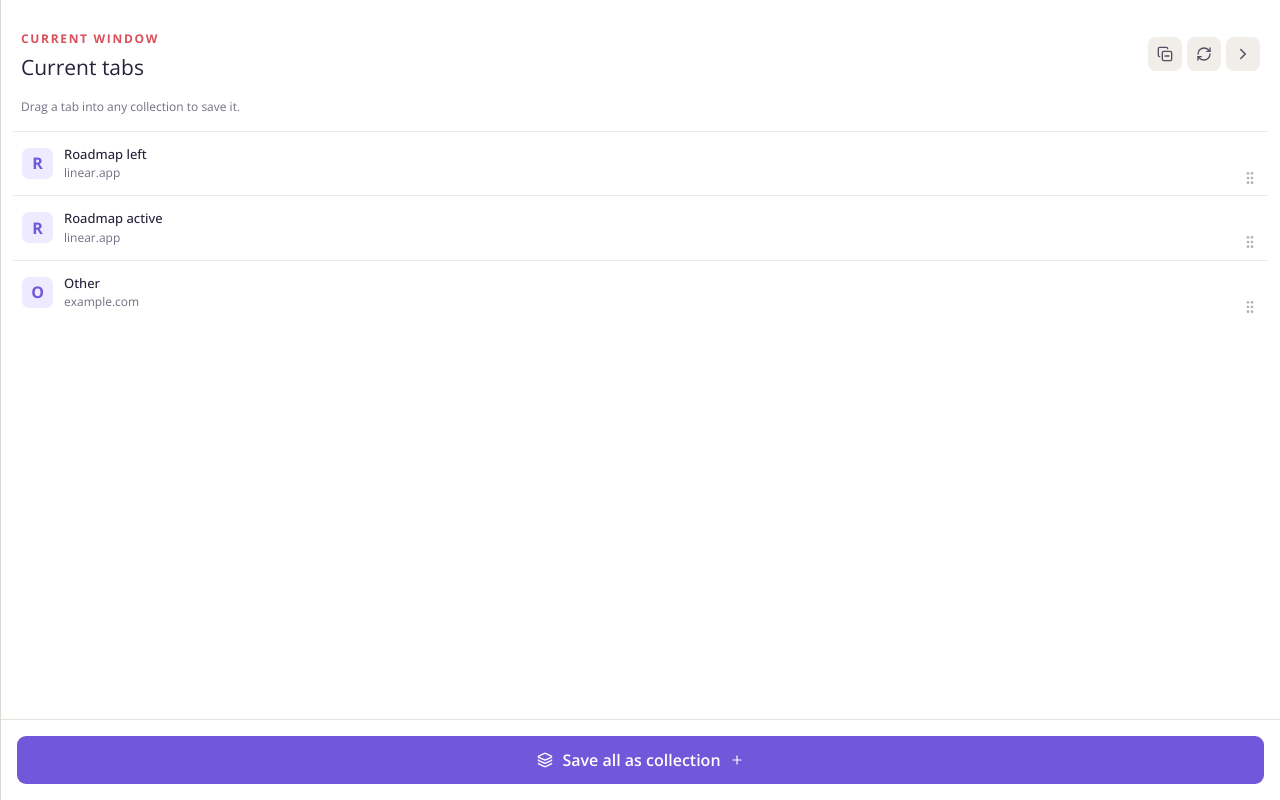
Test: CurrentTabsSheet › confirms and closes only redundant tabs before refreshing the tray
The image size is (1280, 800).
Check: the text "Roadmap left" is shown, box [64,144,147,164]
Step 1. Click the button named "Close duplicate tabs" → (1165, 54), box [1148,37,1182,71]
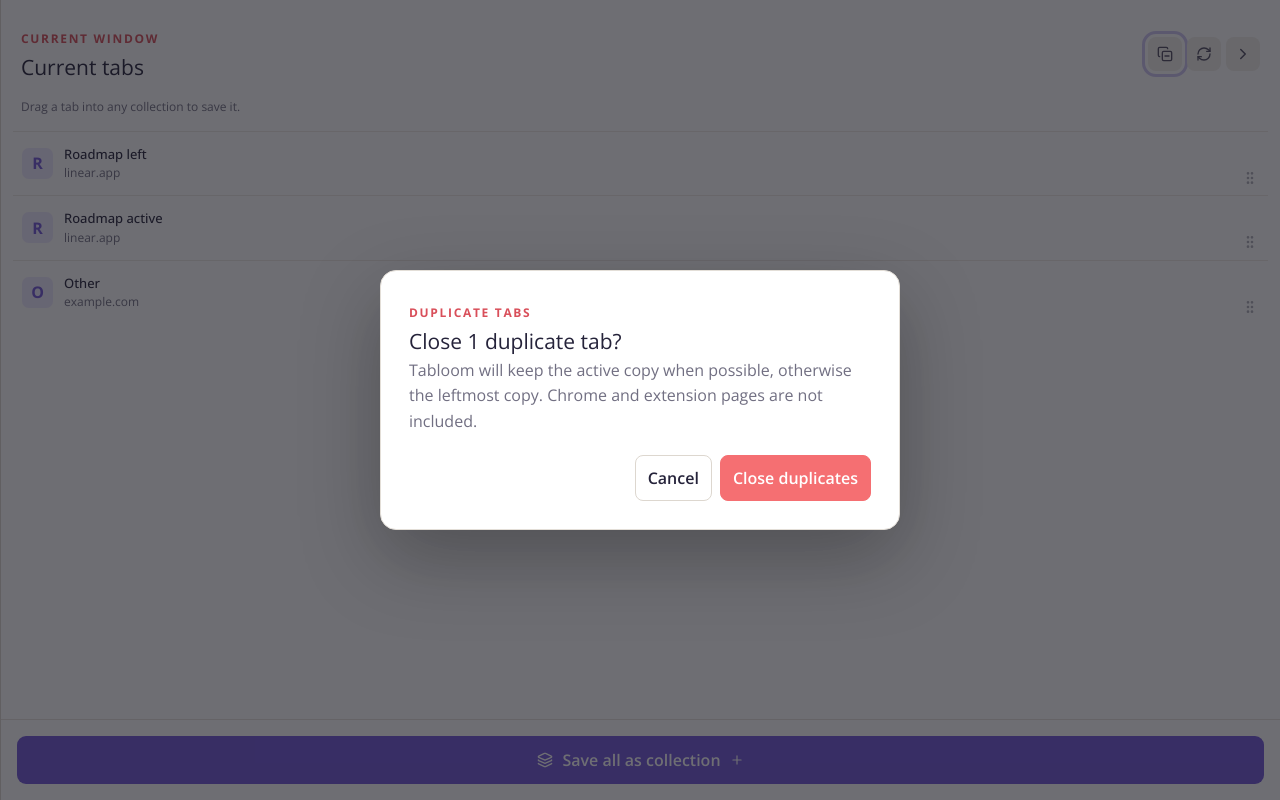
Check: the text "Roadmap left" is shown, box [64,144,147,164]
Check: the dialog named "Close duplicate tabs" shows "Close 1 duplicate tab?", box [380,270,900,530]
Step 2. Click the button "Close duplicates" → (795, 478), box [720,455,871,501]
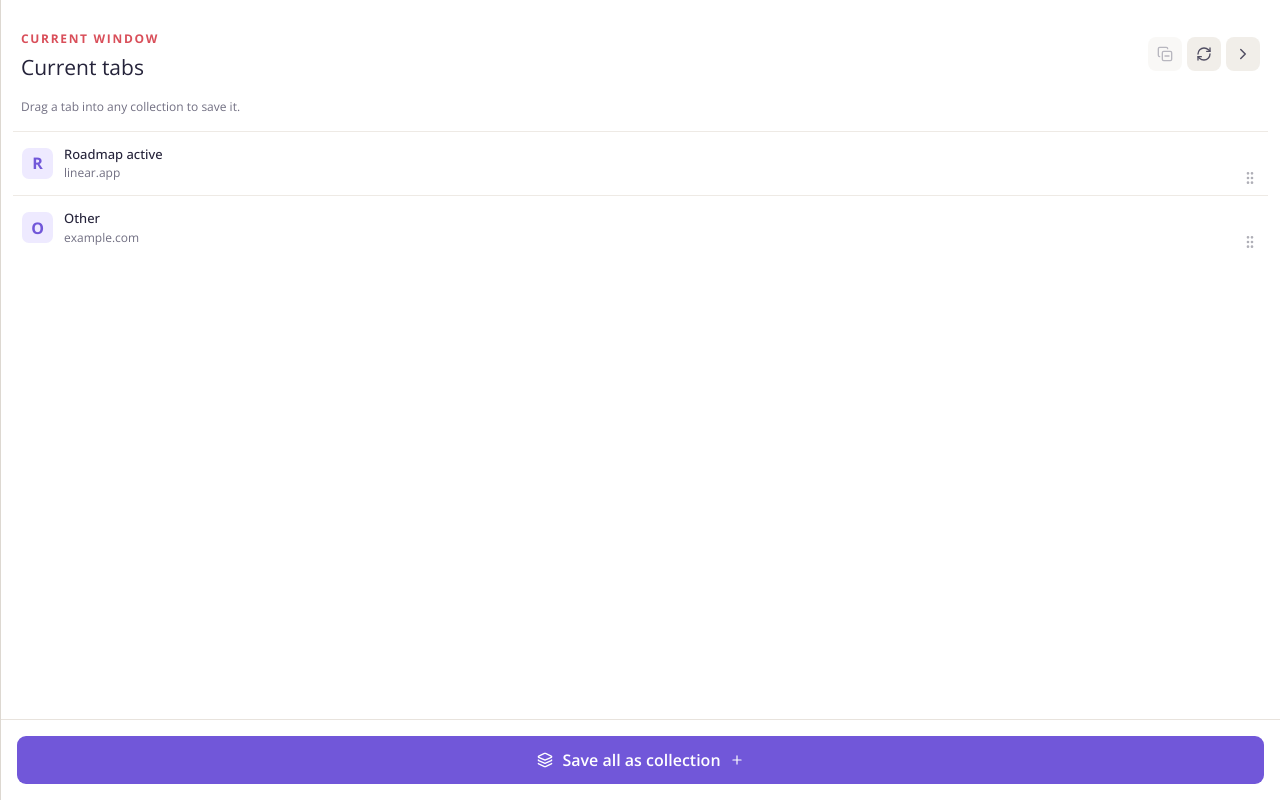
Check: the text "Roadmap active" is shown, box [64,144,163,164]
Check: the button "Roadmap left" is gone
